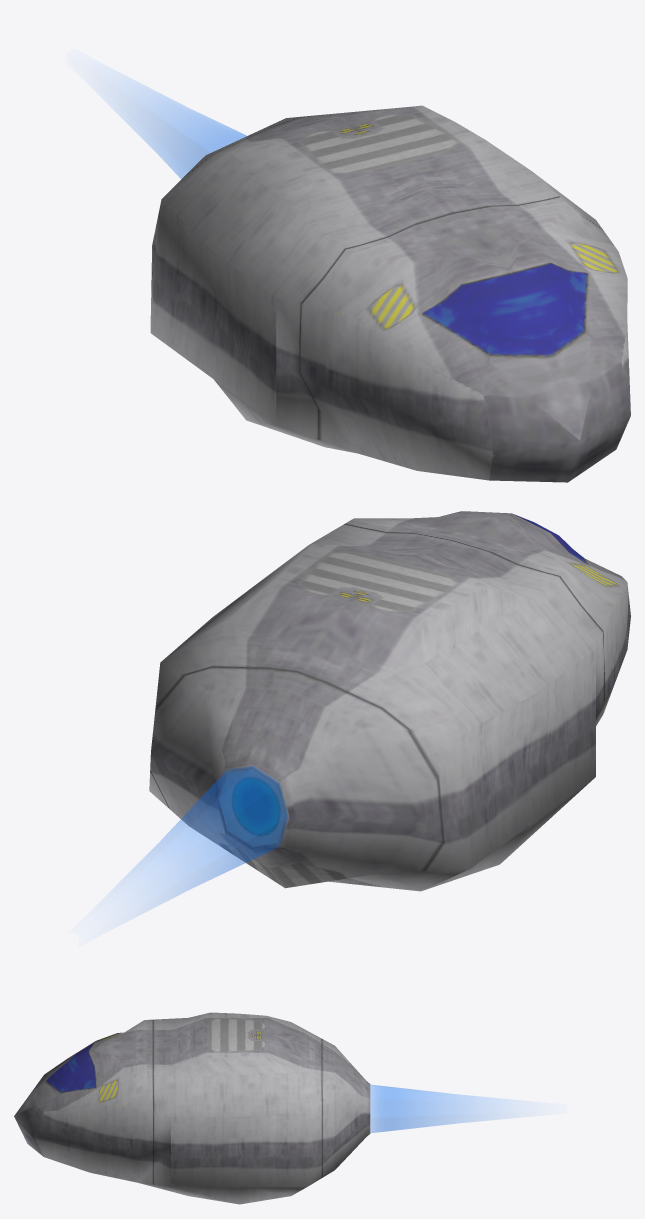
File: escape_pod.gltf
The picture shows the model from 3 angles, top to bottom: view 1: azimuth 30°, elevation 25°; view 2: azimuth 150°, elevation 25°; view 3: azimuth 270°, elevation 25°; orthographic projection. The views are drawn at different scales.
Parts seen in each view (by area): view 1: base, glow; view 2: base, glow; view 3: base, glow.
Boxes of the visible parts, bbox=[...] form: base: bbox=[150, 105, 630, 482]; glow: bbox=[121, 85, 246, 178]; base: bbox=[149, 511, 630, 891]; glow: bbox=[127, 766, 288, 909]; base: bbox=[14, 1012, 370, 1204]; glow: bbox=[370, 1085, 496, 1132].
Bounding box in the file's own units: 0.9075 × 0.6732 × 2.78.
Materials: 2 (2 with a texture image).
